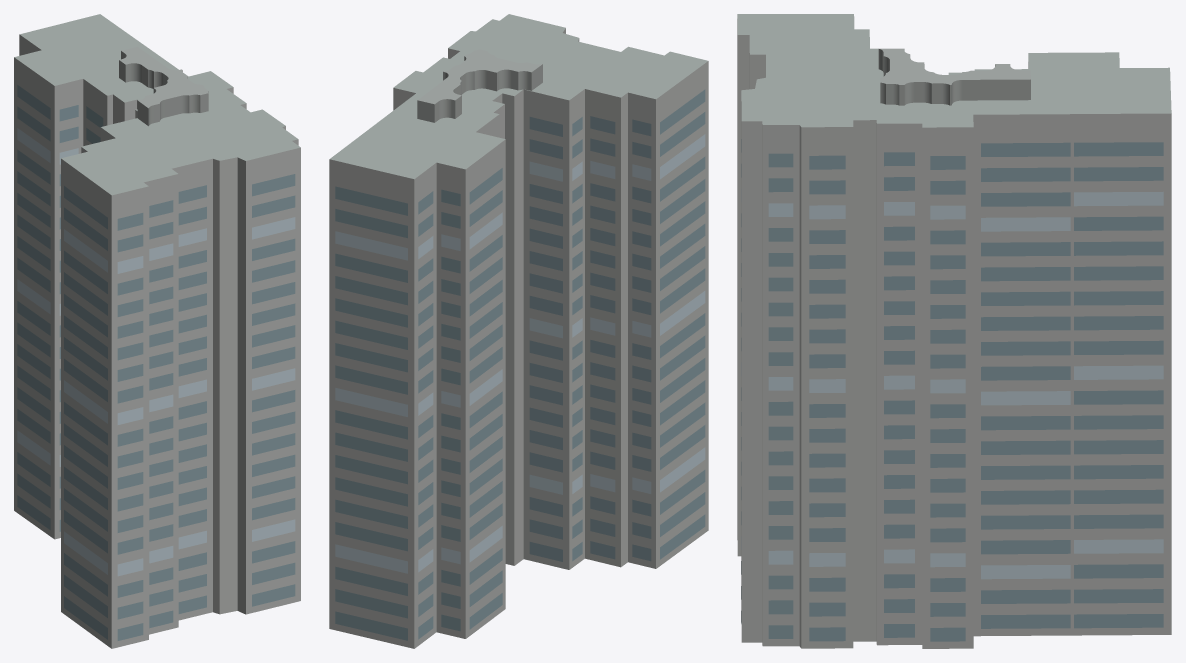
File: fallback-godeok-arteon-315.glb
3 views of the same model, side by side, from view 1: azimuth 30°, elevation 25°; view 2: azimuth 150°, elevation 25°; view 3: azimuth 270°, elevation 25° (orthographic). The views are drawn at different scales.
Visible parts, largest first — view 1: fallback-godeok-arteon-315; view 2: fallback-godeok-arteon-315; view 3: fallback-godeok-arteon-315.
Boxes of the visible parts, <box> form: fallback-godeok-arteon-315: <box>14,14,300,648</box>; fallback-godeok-arteon-315: <box>329,14,708,648</box>; fallback-godeok-arteon-315: <box>737,14,1171,648</box>.
Bounding box in the file's own units: 28.39 × 63 × 45.81.
